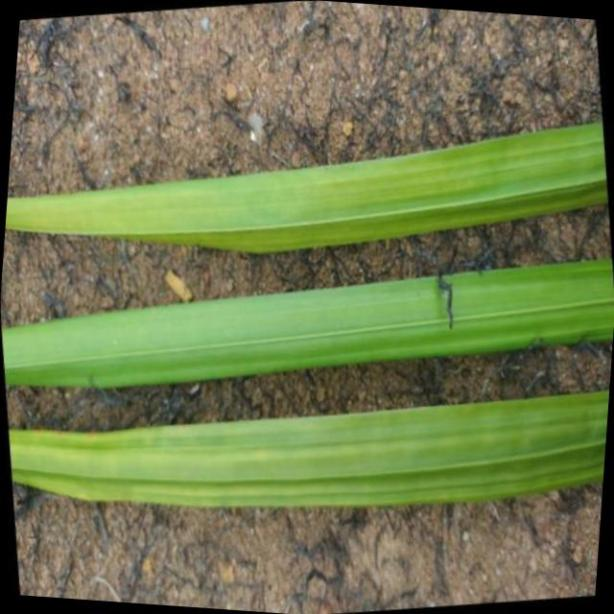nitrogen: (0, 123, 614, 253), (0, 262, 614, 392), (0, 387, 614, 508)
